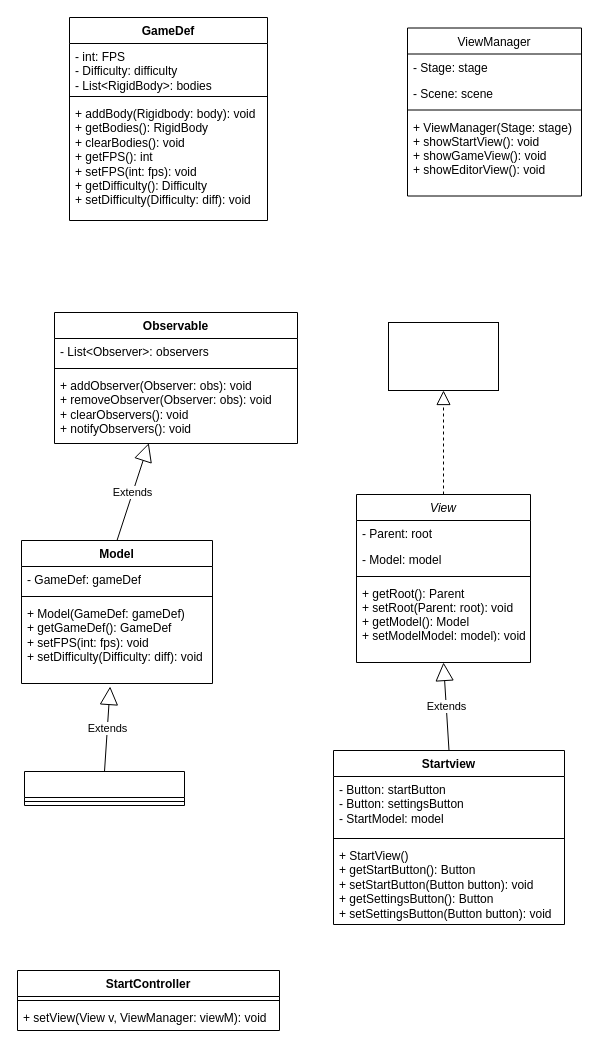
The diagram is 599 pixels wide and 1051 high, and some of its shapes have lost their labels. The shapes that lost their labels are listed below. From the top down, each one's centre as x and y in pixels, then its label:
At (443,356): "«interface» Observer + update(): void".
At (104,788): "StartModel".
